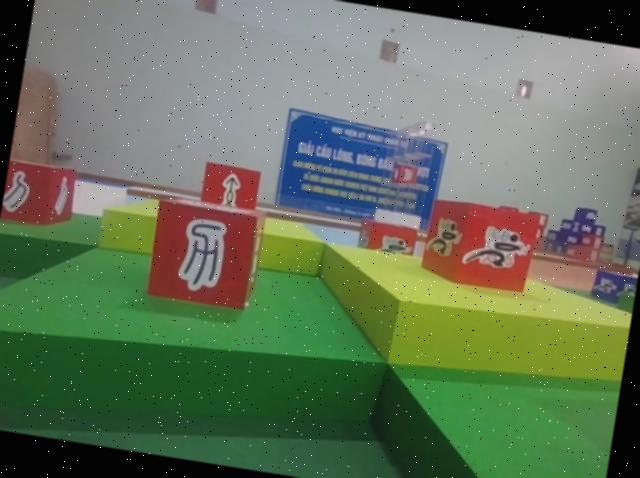R1: (417, 192, 543, 297)
R2 Fake: (140, 190, 269, 314)
R2 Real: (0, 154, 80, 231), (195, 158, 264, 217)
